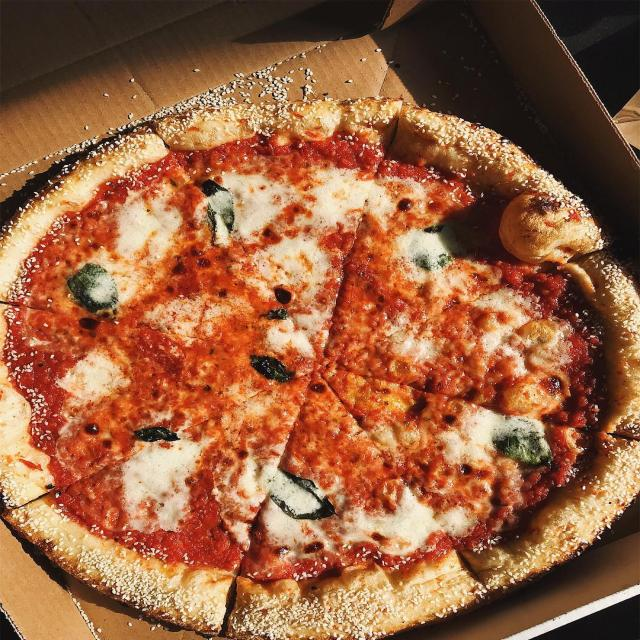basil: (265, 465, 338, 524), (489, 412, 555, 467), (193, 174, 237, 248), (66, 260, 121, 318), (416, 223, 450, 274), (247, 352, 295, 385), (133, 422, 180, 444), (257, 304, 289, 322)
pizza: (2, 97, 639, 640)
